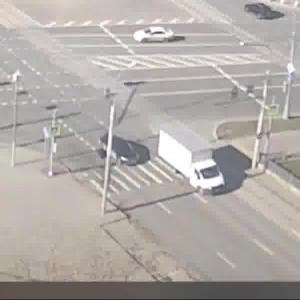car: (155, 125, 231, 195), (96, 131, 143, 169), (136, 25, 179, 46), (241, 1, 280, 23)
